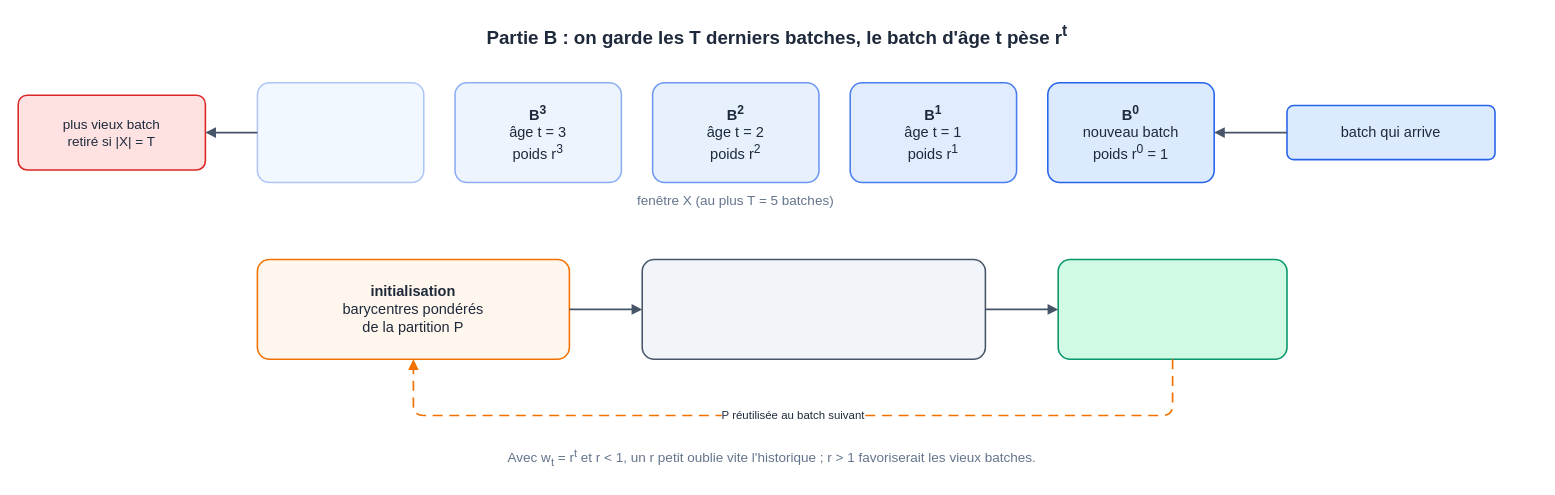
Image size: 1555x495. Some labels were removed from this diagram. The shapes that lost their labels are listed below. From the top down, each one's centre as x and y in pixels, then its label:
[340,132]: B 4 âge t = 4 poids r 4
[813,309]: k-means pondéré KMeans(init=C, n_init=1) .fit(X, sample_weight=r t )
[1172,309]: sortie centres C partition P
